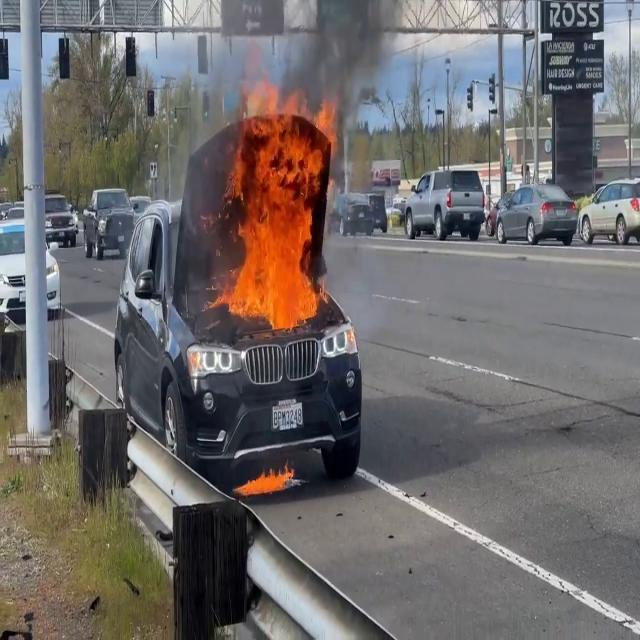Fire: (213, 74, 335, 327), (233, 458, 299, 498)
Smoke: (288, 1, 398, 122)
